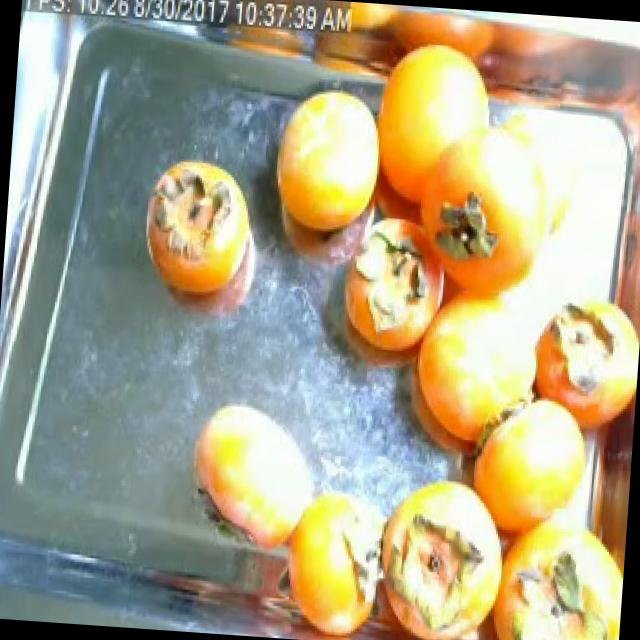Fruit: (127, 140, 272, 334), (250, 62, 386, 268)
